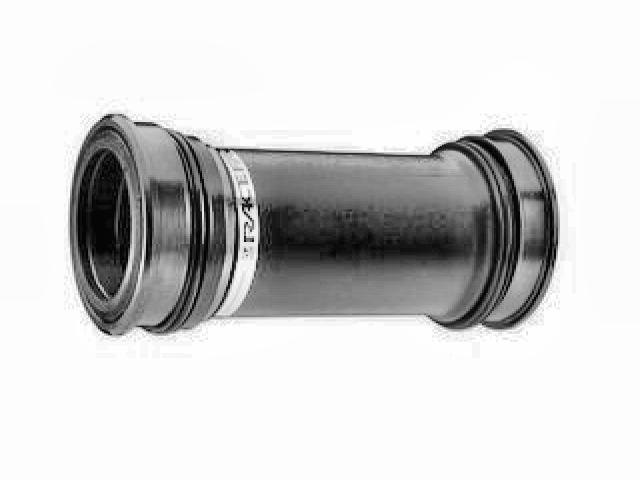bottom_bracket: (65, 107, 562, 341)
